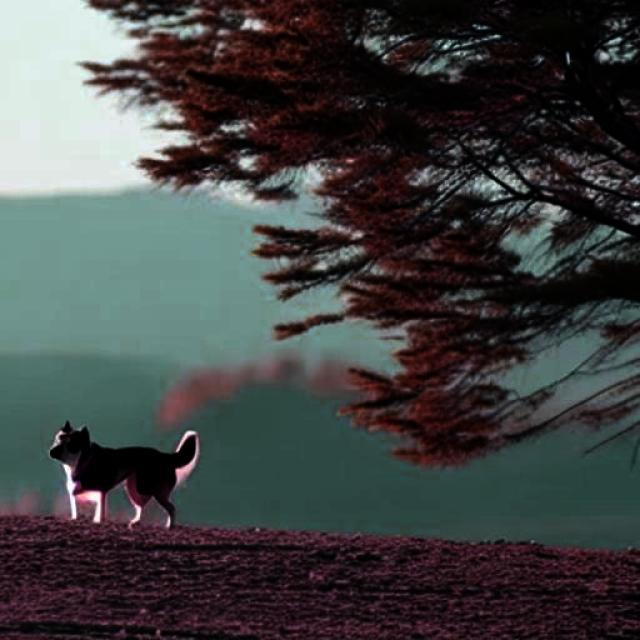Dog: (48, 420, 199, 528)
